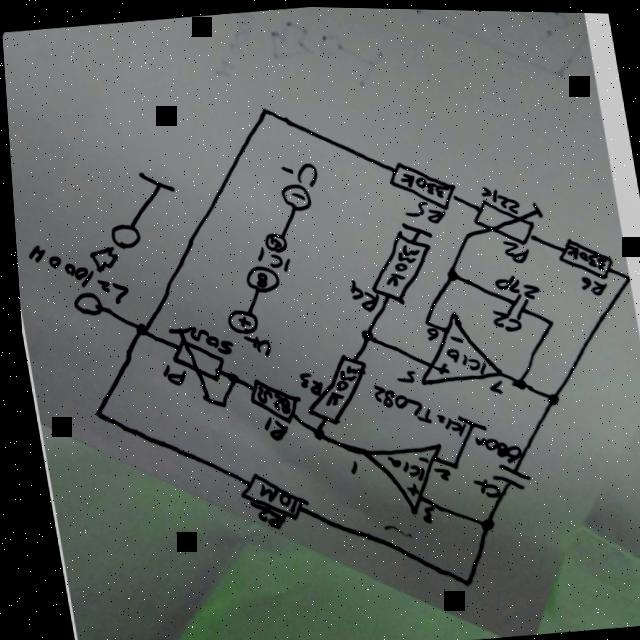capacitor: (483, 458, 527, 491), (499, 291, 528, 320)
ground: (134, 167, 175, 195), (396, 216, 431, 241), (449, 410, 484, 434)
junction: (505, 374, 523, 391), (539, 389, 557, 405), (130, 323, 148, 338), (473, 516, 489, 530), (356, 327, 370, 341), (221, 371, 235, 384), (257, 103, 271, 116), (443, 267, 456, 280), (307, 425, 320, 438), (453, 574, 465, 587), (541, 314, 553, 326), (443, 458, 454, 471), (88, 408, 100, 418), (619, 272, 629, 283), (460, 227, 470, 238), (196, 392, 206, 402), (214, 397, 223, 408), (420, 316, 429, 326)
resistor: (162, 320, 238, 411), (359, 226, 436, 307), (292, 348, 371, 425), (466, 190, 546, 249), (383, 154, 457, 214), (229, 465, 304, 524), (240, 373, 300, 427), (551, 231, 614, 282)
terminal: (67, 289, 103, 323), (105, 218, 142, 251), (240, 262, 278, 294), (277, 180, 311, 211), (221, 307, 256, 336), (259, 230, 286, 253)
text: (23, 237, 129, 313), (366, 374, 463, 445), (375, 240, 423, 287), (314, 362, 364, 407), (396, 165, 450, 201), (183, 320, 231, 359), (467, 428, 517, 464), (489, 268, 539, 301), (250, 477, 293, 515), (476, 179, 519, 216), (440, 343, 484, 378), (562, 239, 606, 272), (379, 451, 421, 484), (244, 496, 283, 531), (277, 158, 320, 189), (400, 197, 446, 225), (249, 383, 287, 416), (345, 276, 378, 313), (252, 243, 291, 274), (487, 304, 519, 332), (237, 331, 269, 358), (498, 234, 527, 263), (256, 414, 284, 441), (293, 368, 319, 397), (465, 473, 495, 498), (575, 270, 605, 295), (155, 362, 183, 387), (390, 367, 412, 384), (414, 503, 431, 523), (340, 457, 357, 476), (427, 464, 445, 480), (483, 377, 501, 393), (266, 234, 280, 252), (420, 325, 436, 340), (251, 271, 265, 286)
